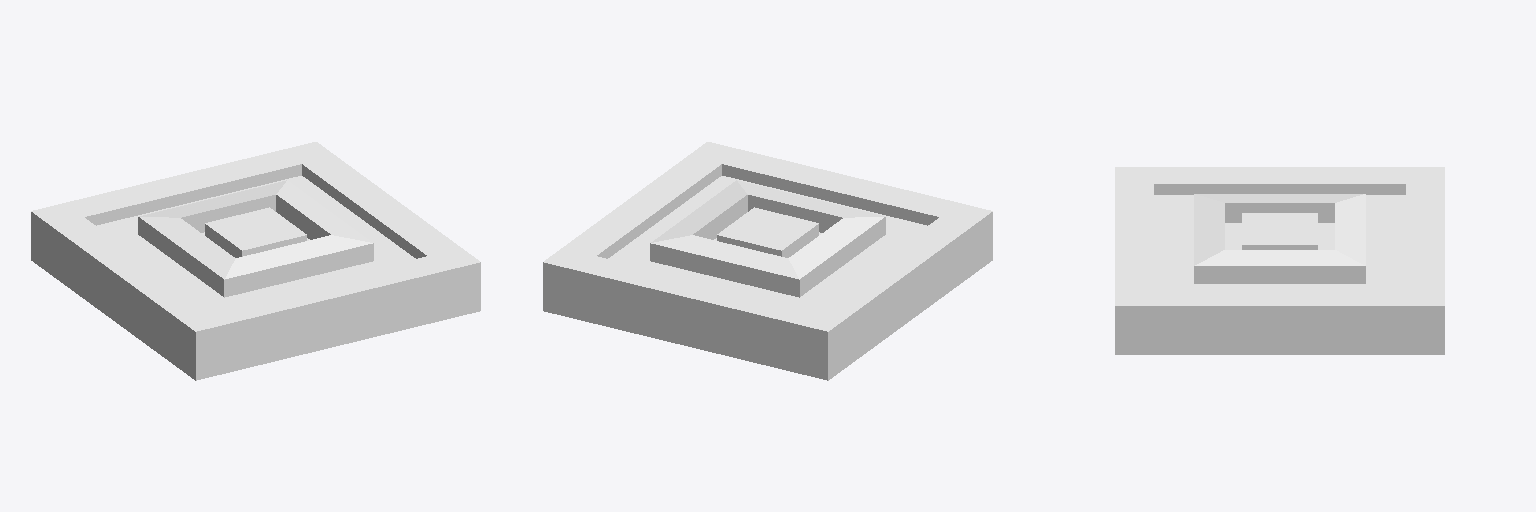
The model's file is boton.obj.
The picture shows the model from 3 angles: view 1: azimuth 30°, elevation 25°; view 2: azimuth 150°, elevation 25°; view 3: azimuth 270°, elevation 25°; orthographic projection.
Visible parts, largest first — view 1: pCube1; view 2: pCube1; view 3: pCube1.
Boxes of the visible parts, <box> form: pCube1: <box>31,142,480,380</box>; pCube1: <box>543,142,992,380</box>; pCube1: <box>1115,167,1444,354</box>.
Size of the model in its own units: 19.99 by 3.96 by 19.99.